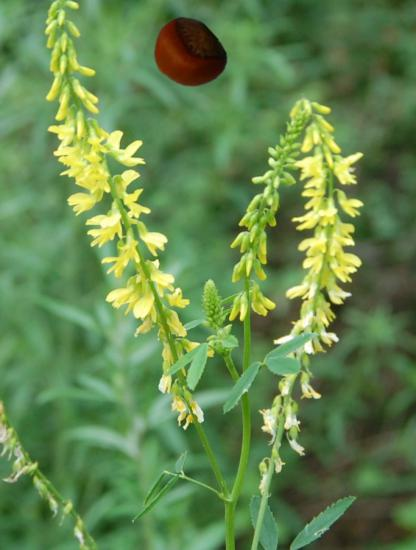Nut: (150, 16, 226, 92)
